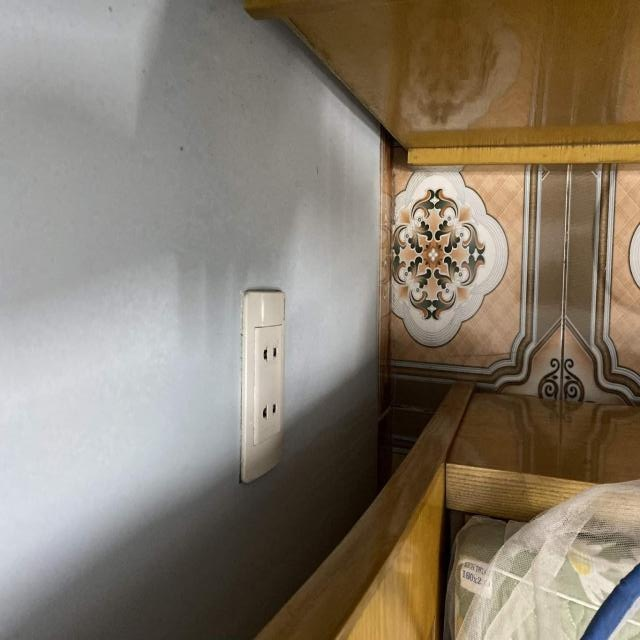outlet: (239, 290, 286, 484)
